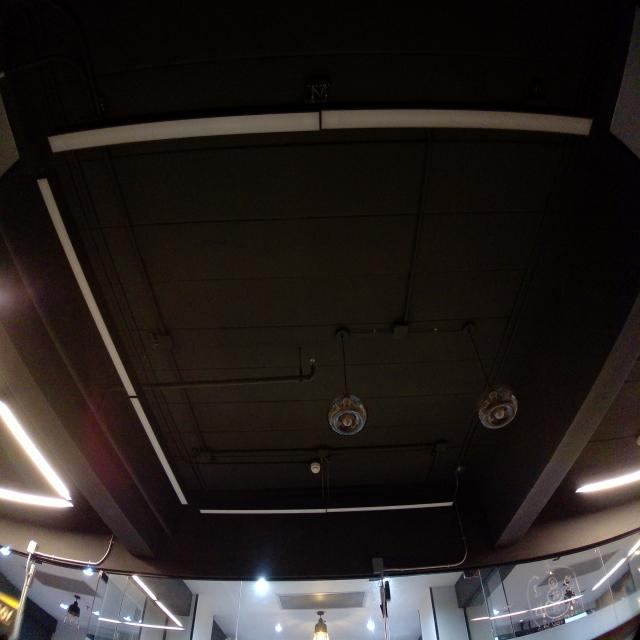lamp2_off: (27, 173, 195, 514), (41, 97, 600, 167), (197, 495, 463, 525)
